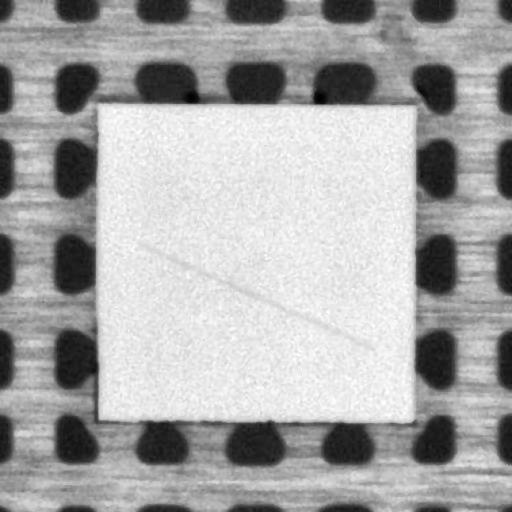DIE_CRACK: (138, 244, 371, 348)
